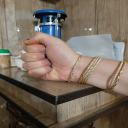Fist: (20, 28, 77, 82)
